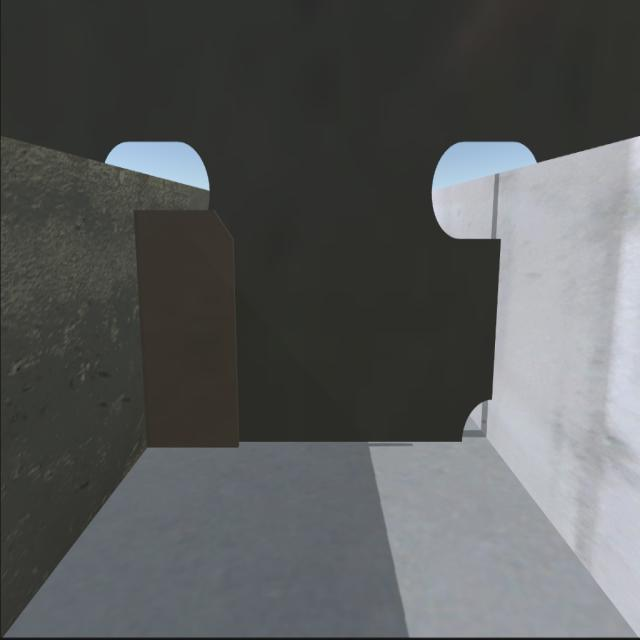fillet_hole: (460, 391, 495, 442)
fillet_yong_jeop_jang: (145, 431, 466, 447)
longi_yong_jeop_jang: (130, 212, 156, 452), (489, 235, 511, 394)
plate_CP03: (144, 210, 242, 448)
